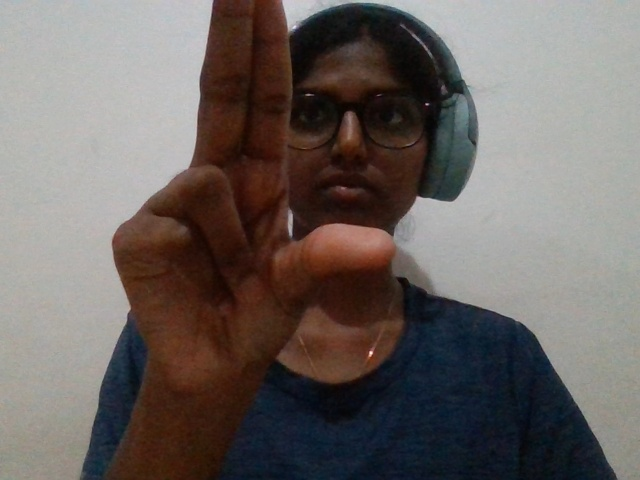No: (66, 6, 406, 398)
